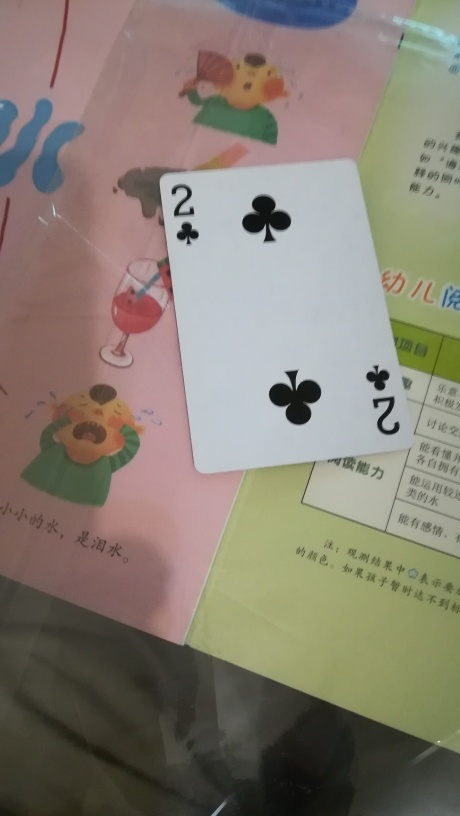mh 2: (160, 158, 416, 473)
